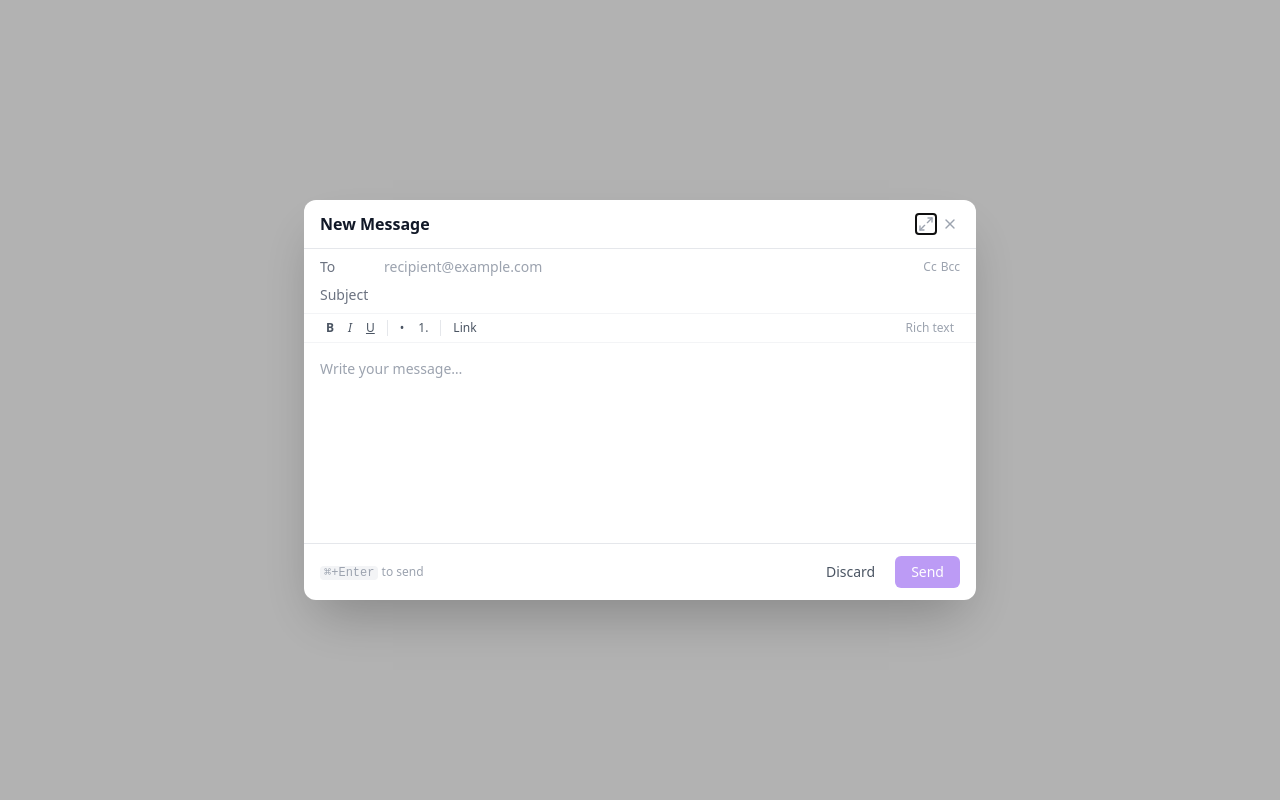
Test case: ComposeModal › shows Cc field when Cc button is clicked
Expected: the field with placeholder "cc@example.com" is not shown
Click the button "Cc".
click(930, 267)  # box [923,259,937,275]
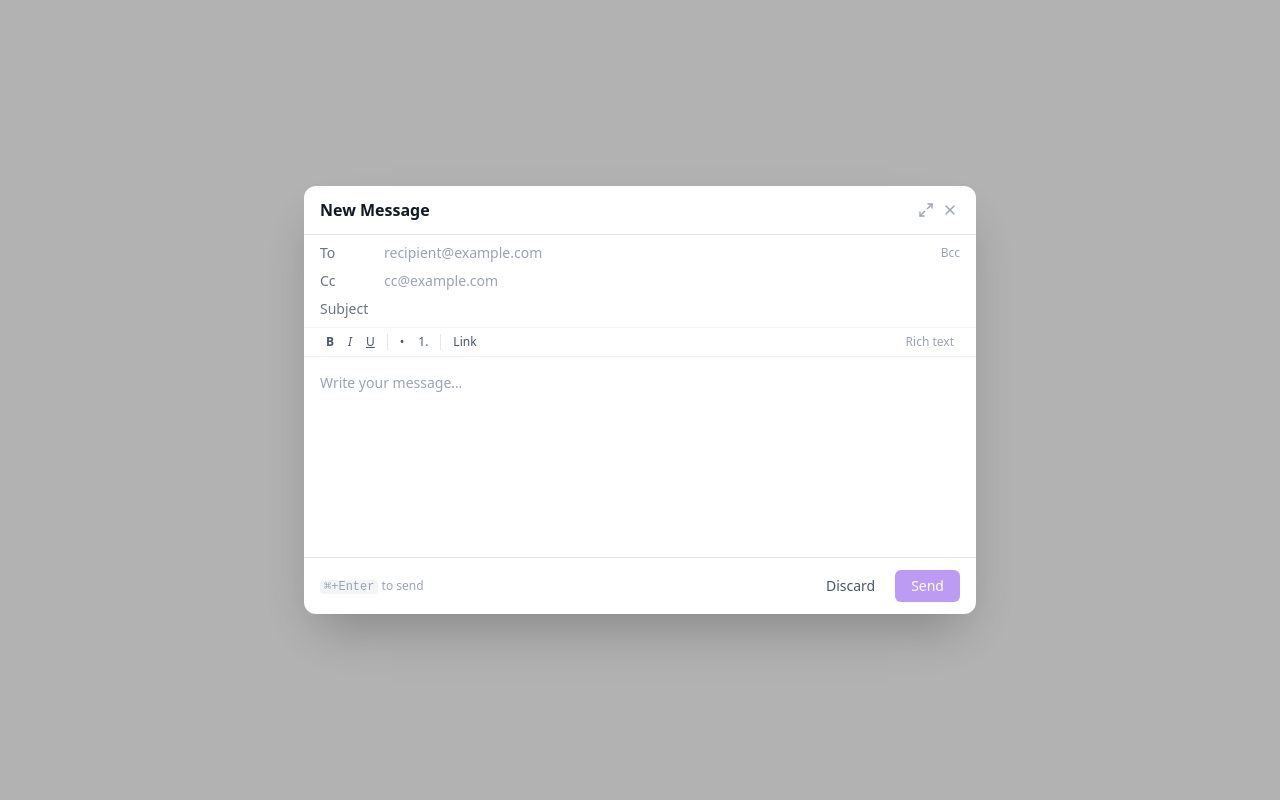
Expected: the field with placeholder "cc@example.com" is shown, [384,271,960,291]
